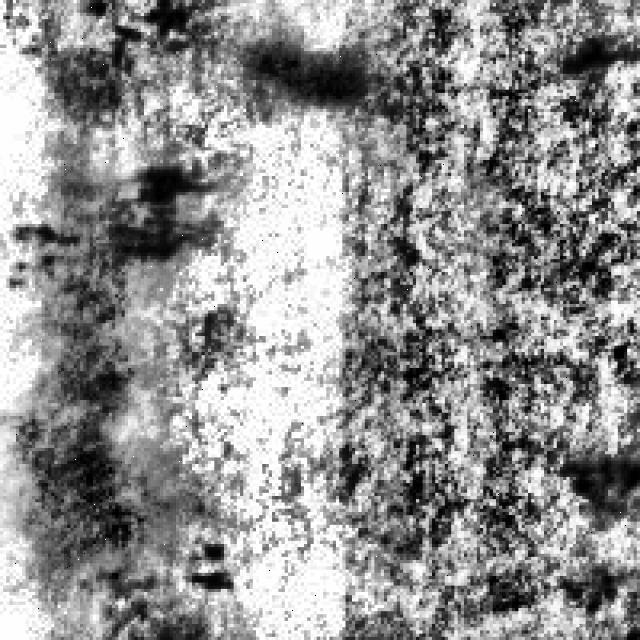Patches: (106, 147, 214, 256), (544, 22, 634, 80)
Scratches: (19, 154, 163, 484), (0, 394, 195, 596), (246, 22, 378, 112)
